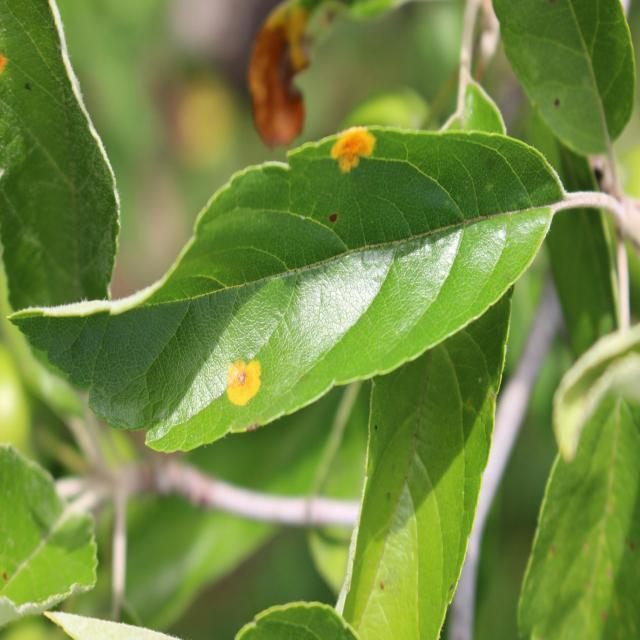Rust: (328, 110, 376, 185), (226, 351, 268, 412)
